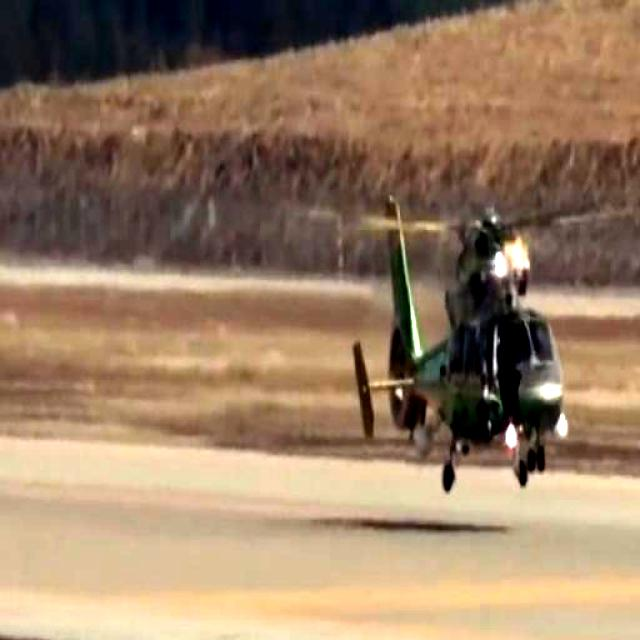drone: (348, 200, 610, 499)
